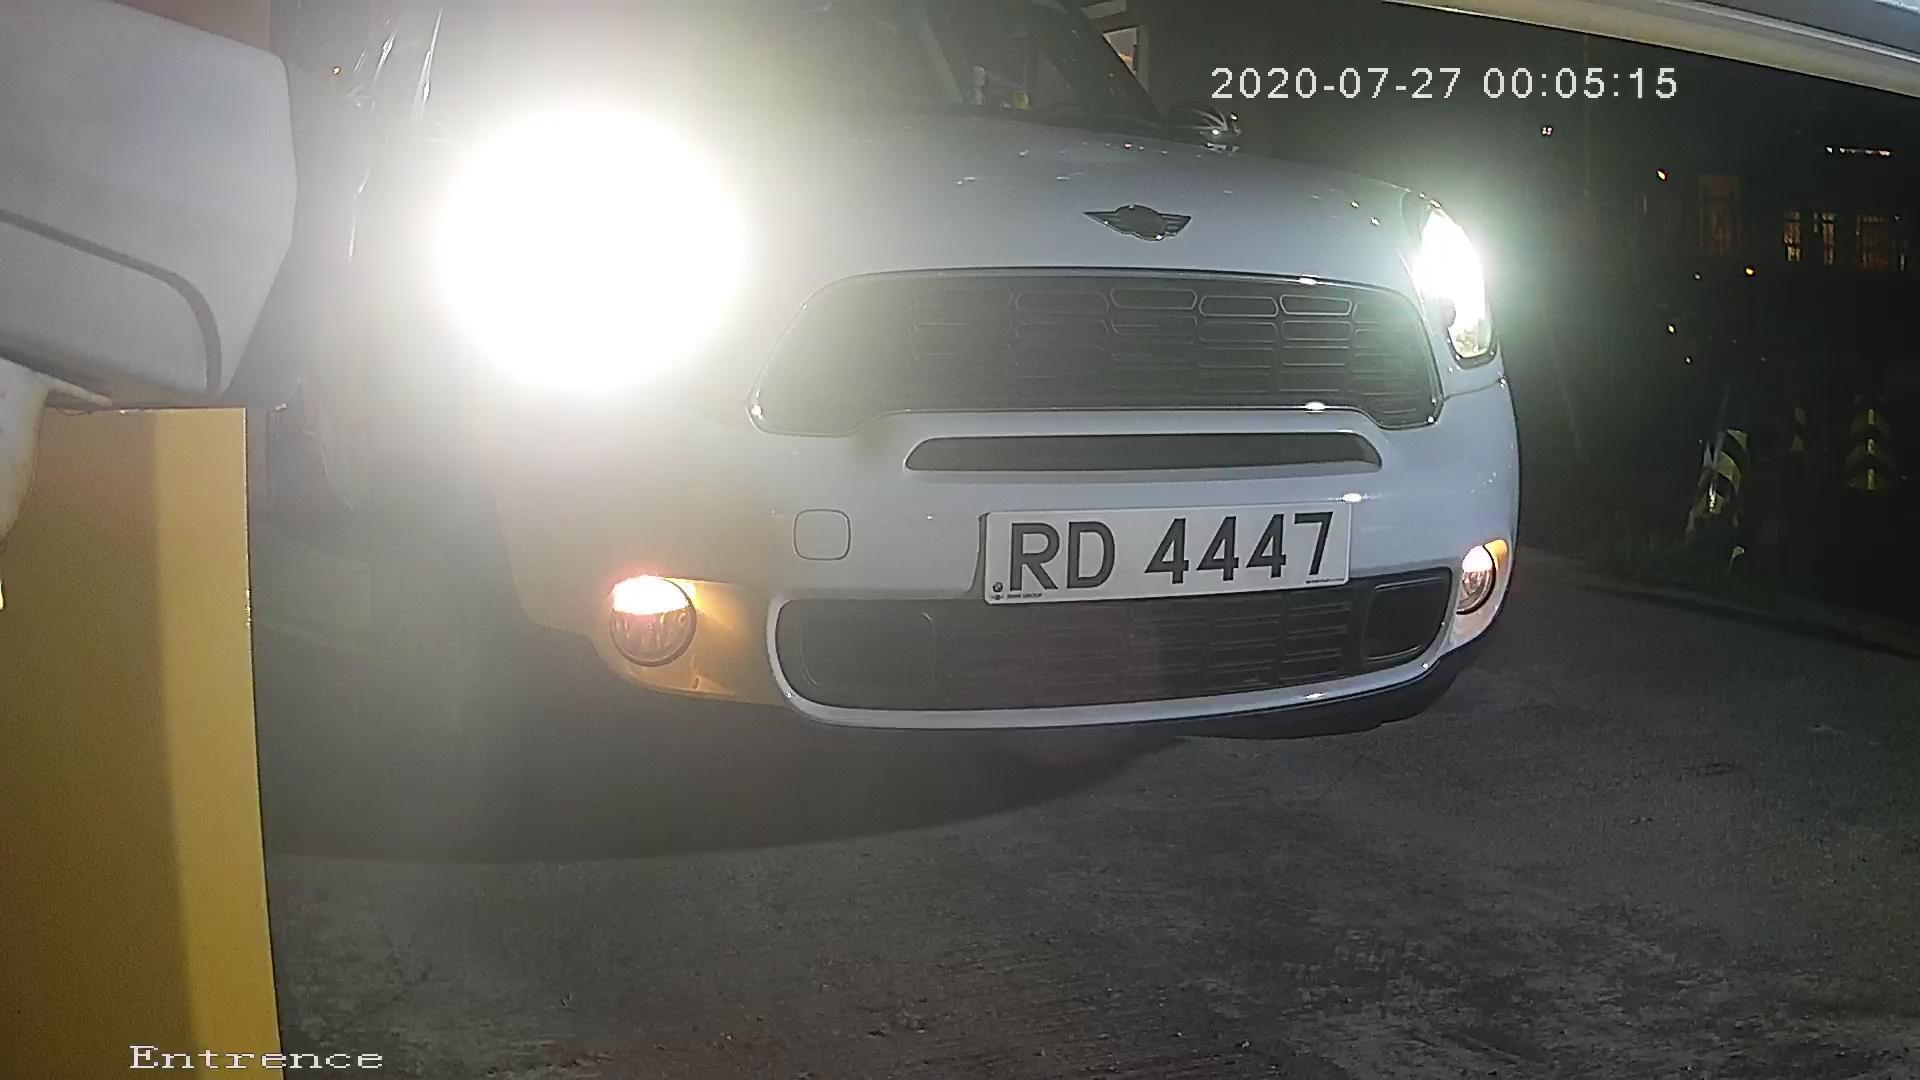Car: (52, 54, 1689, 883)
License Plate: (935, 483, 1355, 618)
